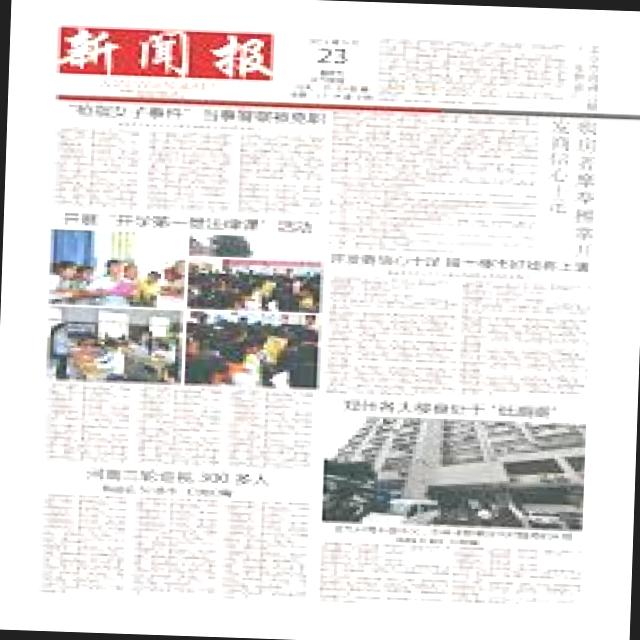paper: (24, 14, 620, 638)
